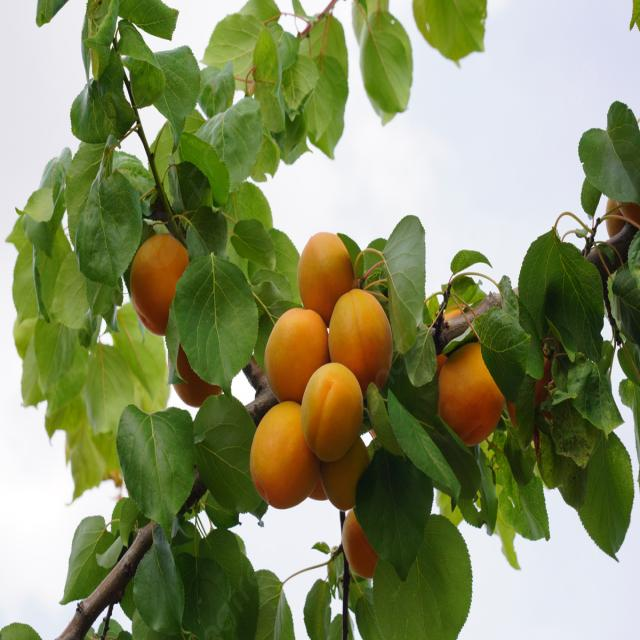kayisi: (455, 363, 514, 447), (140, 229, 182, 336), (334, 298, 389, 377), (256, 432, 317, 497), (305, 242, 346, 309), (322, 376, 354, 449), (274, 325, 311, 374), (330, 460, 365, 506), (174, 357, 205, 406), (354, 529, 380, 581), (604, 198, 623, 238)
yaprak: (78, 181, 164, 291), (511, 242, 596, 342), (360, 464, 442, 567), (130, 440, 220, 520), (381, 230, 438, 354), (436, 0, 535, 66), (367, 24, 425, 136), (408, 516, 455, 640), (194, 269, 258, 360), (40, 250, 99, 348), (93, 8, 167, 74), (386, 400, 446, 476), (118, 554, 176, 632), (584, 133, 640, 210), (481, 481, 547, 542), (576, 364, 621, 444), (199, 561, 243, 640), (248, 574, 298, 640), (157, 47, 201, 121), (203, 119, 250, 188), (92, 62, 134, 136), (87, 546, 131, 614), (188, 206, 252, 252), (128, 320, 170, 387), (377, 595, 439, 640), (88, 364, 128, 430), (266, 68, 308, 130), (591, 464, 633, 524), (55, 387, 89, 441), (314, 595, 350, 640), (76, 529, 106, 576), (224, 28, 260, 56)
